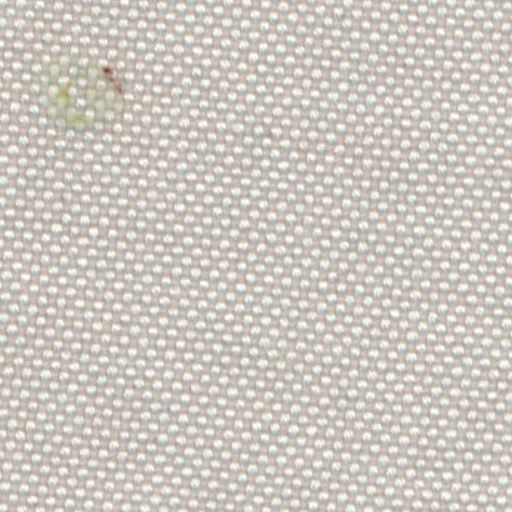WuZi: (28, 42, 140, 146)
